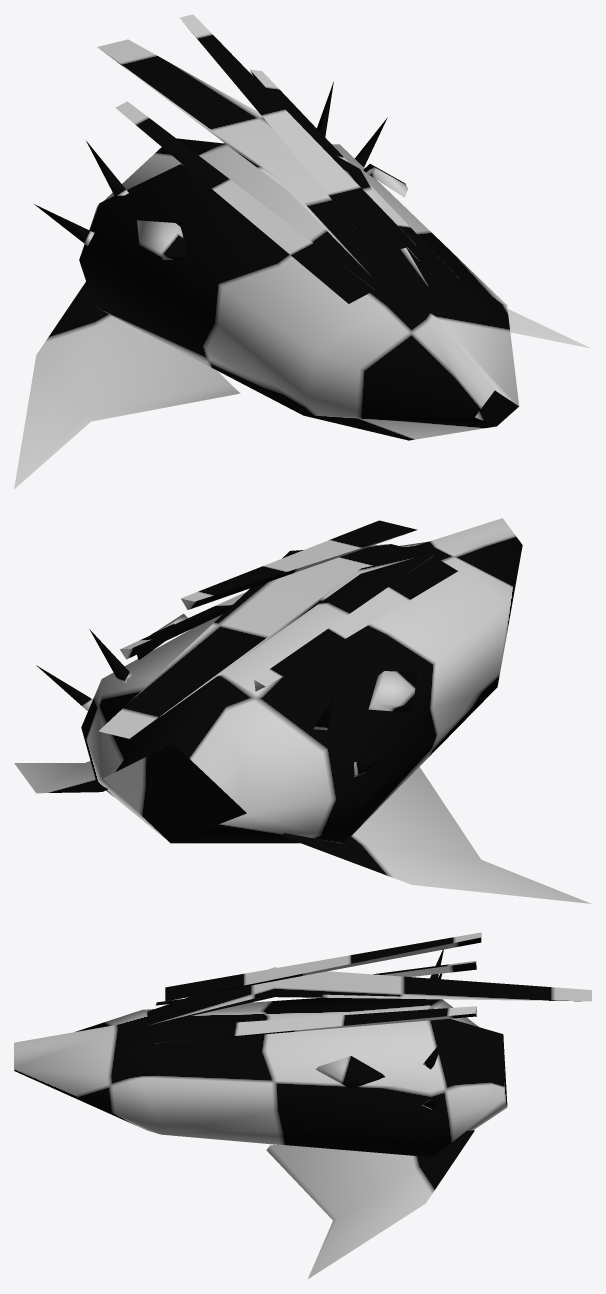
Rendered from drone_flax_4.obj.
3 views of the same model, one above another, from view 1: azimuth 30°, elevation 25°; view 2: azimuth 150°, elevation 25°; view 3: azimuth 270°, elevation 25° (orthographic). The views are drawn at different scales.
Visible parts, largest first — view 1: main; view 2: main; view 3: main.
Boxes of the visible parts, left/top/right/bottom form: main: left=14, top=14, right=590, bottom=489; main: left=14, top=518, right=591, bottom=903; main: left=14, top=932, right=591, bottom=1278.
Size of the model in its own units: 21.59 by 11.36 by 24.94.
Materials: 1 (1 with a texture image).
